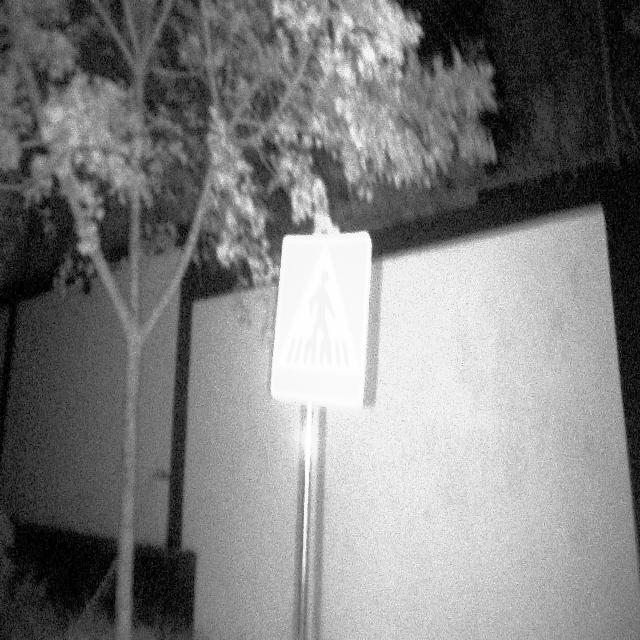Sign: (267, 232, 373, 414)
Tree: (41, 0, 215, 640)
